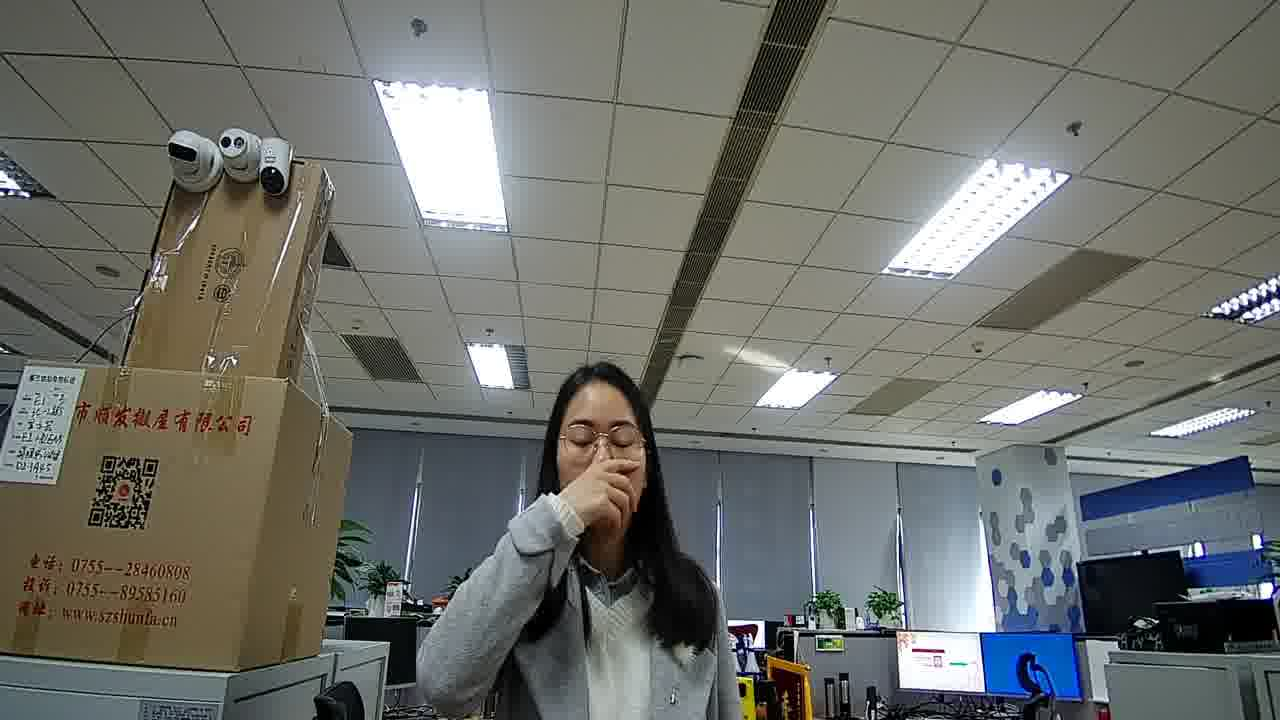face: (552, 391, 649, 535)
person: (469, 363, 723, 612)
